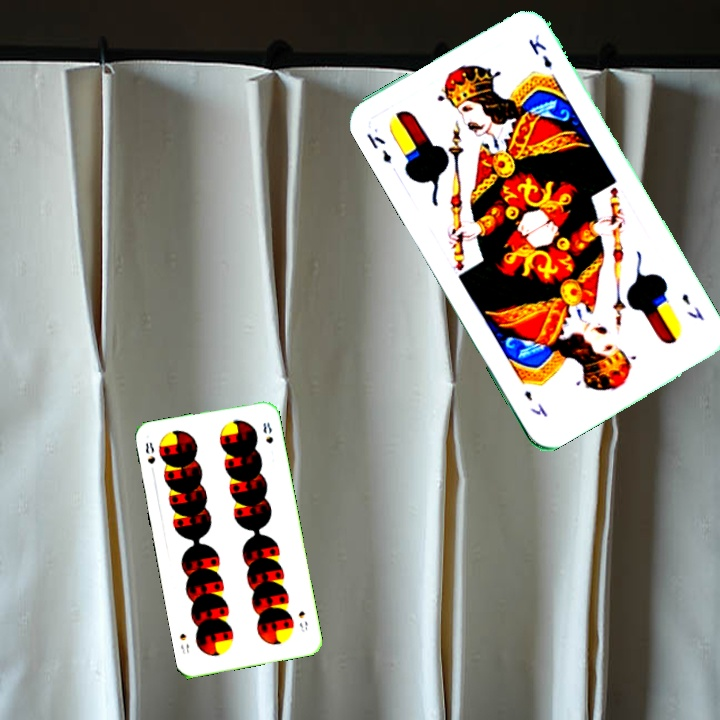EK: (362, 129, 394, 166), (677, 289, 707, 324)
S8: (141, 438, 158, 467), (294, 607, 310, 634)
